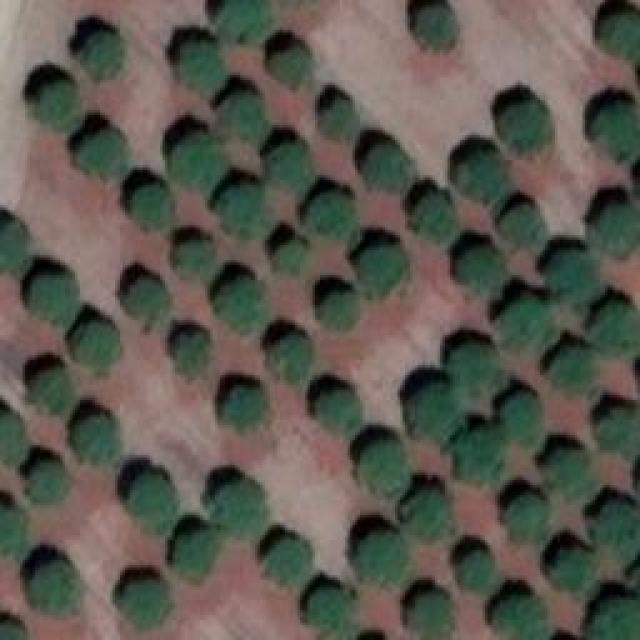Tree: (218, 175, 273, 233), (400, 487, 455, 545), (502, 100, 560, 155), (28, 263, 81, 323), (500, 298, 553, 358), (80, 122, 133, 180), (28, 557, 81, 615), (453, 148, 508, 203), (360, 438, 408, 501), (173, 40, 228, 93), (170, 135, 225, 188), (128, 475, 181, 530), (213, 478, 266, 533), (450, 428, 505, 481), (310, 585, 363, 638), (73, 408, 123, 463), (115, 575, 165, 630), (358, 245, 408, 300), (590, 105, 640, 160), (218, 278, 271, 328), (305, 188, 355, 241), (368, 140, 418, 193), (410, 380, 458, 435), (82, 30, 130, 83), (215, 90, 263, 143), (550, 253, 600, 303), (597, 300, 640, 357), (0, 202, 32, 277), (265, 335, 315, 383), (592, 205, 640, 255), (30, 368, 75, 421), (503, 495, 548, 548), (598, 497, 638, 555), (217, 0, 272, 42), (357, 532, 405, 580), (173, 530, 216, 583), (503, 388, 546, 441), (30, 83, 80, 128), (265, 540, 310, 590), (453, 343, 498, 393), (75, 318, 123, 363), (268, 137, 313, 185), (217, 385, 265, 430), (413, 592, 458, 640), (498, 592, 543, 640), (128, 183, 171, 233), (315, 393, 360, 438), (548, 445, 593, 490), (320, 93, 360, 143), (125, 278, 168, 323), (505, 203, 548, 248), (30, 452, 70, 500), (600, 405, 640, 453), (263, 47, 313, 85), (602, 10, 640, 58), (592, 602, 640, 640), (550, 348, 595, 388), (453, 240, 498, 280), (420, 3, 460, 46), (418, 193, 458, 236), (173, 240, 213, 280), (318, 290, 358, 330), (273, 240, 313, 278), (555, 543, 590, 586), (172, 335, 210, 373), (460, 550, 493, 590), (0, 412, 25, 460), (0, 505, 22, 552), (0, 620, 30, 640)
